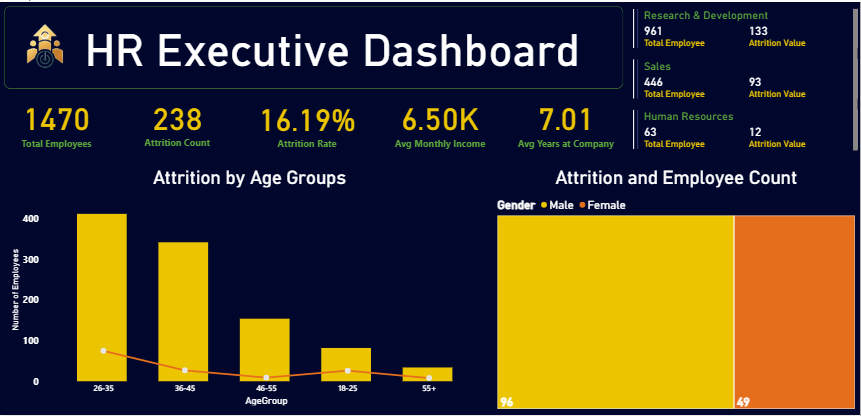

The page's visual inventory and layout, read from the dashboard file:
{"tool":"powerbi","page":{"name":"Executive Summary","canvas":[1500,720],"ordinal":0},"visuals":[{"type":"lineClusteredColumnComboChart","title":"Attrition by Age Groups","fields":{"Category":["HR_Analytics.AgeGroup"],"Y2":["Sum(HR_Analytics.attrition value)"],"Y":["HR_Analytics.Total Headcount"]},"box":[9.9,276.4,849,438],"z":0},{"type":"card","fields":{"Values":["HR_Analytics.Attrition Rate"]},"box":[441.9,153.2,188.7,111.3],"z":1000},{"type":"multiRowCard","fields":{"Values":["HR_Analytics.Total Headcount","HR_Analytics.Department","Sum(HR_Analytics.attrition value)"]},"box":[1098.4,6.5,401.6,269.4],"z":2000},{"type":"treemap","title":"Attrition and Employee Count","fields":{"Group":["HR_Analytics.Gender"],"Values":["Sum(HR_Analytics.attrition value)"]},"box":[860.3,276.4,639.2,443.6],"z":3000},{"type":"textbox","box":[117.7,33.9,922.6,100],"z":4000},{"type":"card","fields":{"Values":["HR_Analytics.Avg Monthly Income"]},"box":[671,153.2,191.9,109.7],"z":5000},{"type":"card","fields":{"Values":["HR_Analytics.Avg Years at Company"]},"box":[888.7,153.2,195.2,109.7],"z":6000},{"type":"card","fields":{"Values":["HR_Analytics.Total Headcount"]},"box":[6.7,153.6,182.9,110],"z":7000},{"type":"card","fields":{"Values":["HR_Analytics.Attrition Count"]},"box":[219.4,151.6,179,111.3],"z":8000},{"type":"image","box":[1.4,0,152.9,152.9],"z":9000},{"type":"shape","box":[7.1,7.1,1080,144.6],"z":10000}]}

Visuals, with their boxes in screenshot pixels (x1, y1, x2, y2), scaled from the page's 1500x720 canvas onto the 861x416 screenshot:
"Attrition by Age Groups" lineClusteredColumnComboChart: <region>6, 160, 493, 413</region>
card - HR_Analytics.Attrition Rate: <region>254, 89, 362, 153</region>
multiRowCard - HR_Analytics.Total Headcount x HR_Analytics.Department: <region>630, 4, 860, 159</region>
"Attrition and Employee Count" treemap: <region>494, 160, 860, 415</region>
textbox: <region>68, 20, 597, 77</region>
card - HR_Analytics.Avg Monthly Income: <region>385, 89, 495, 152</region>
card - HR_Analytics.Avg Years at Company: <region>510, 89, 622, 152</region>
card - HR_Analytics.Total Headcount: <region>4, 89, 109, 152</region>
card - HR_Analytics.Attrition Count: <region>126, 88, 229, 152</region>
image: <region>1, 0, 89, 88</region>
shape: <region>4, 4, 624, 88</region>
